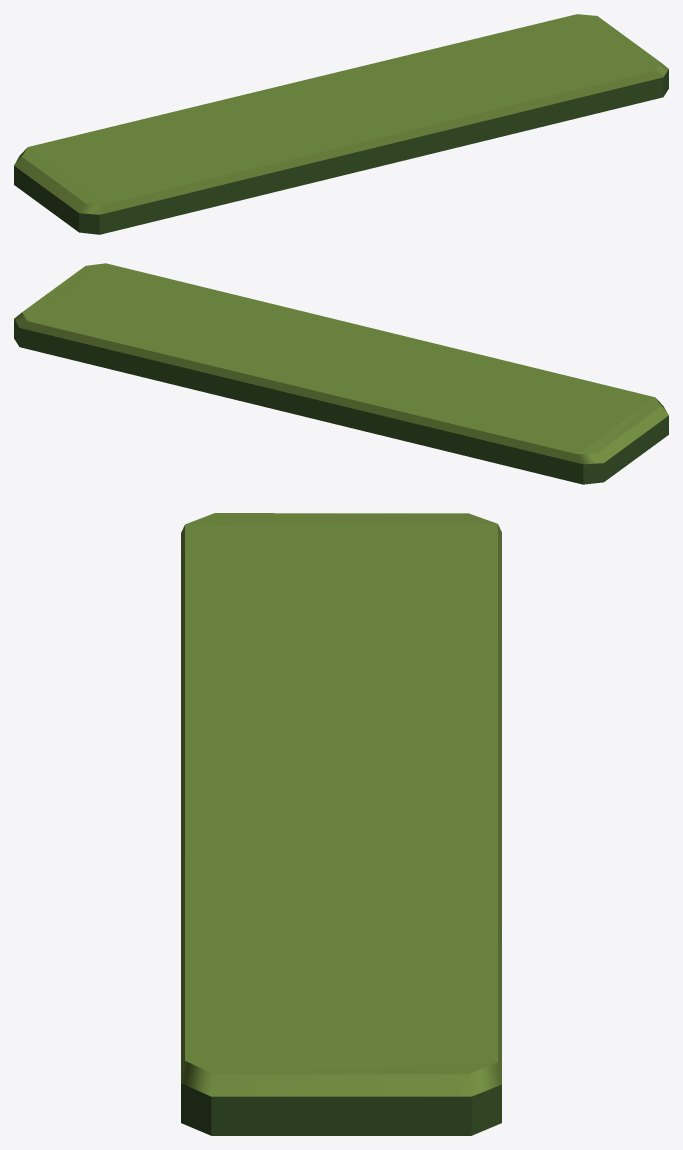
The model's file is gf_board_narrow_a.glb.
3 views of the same model, one above another, from view 1: azimuth 30°, elevation 25°; view 2: azimuth 150°, elevation 25°; view 3: azimuth 270°, elevation 25° (orthographic). The views are drawn at different scales.
Visible parts, largest first — view 1: gf_board_narrow_a; view 2: gf_board_narrow_a; view 3: gf_board_narrow_a.
Boxes of the visible parts, bbox=[...] form: gf_board_narrow_a: bbox=[14, 14, 668, 234]; gf_board_narrow_a: bbox=[14, 263, 668, 484]; gf_board_narrow_a: bbox=[181, 513, 501, 1135].
Size of the model in its own units: 1.35 by 0.0613 by 0.318.
